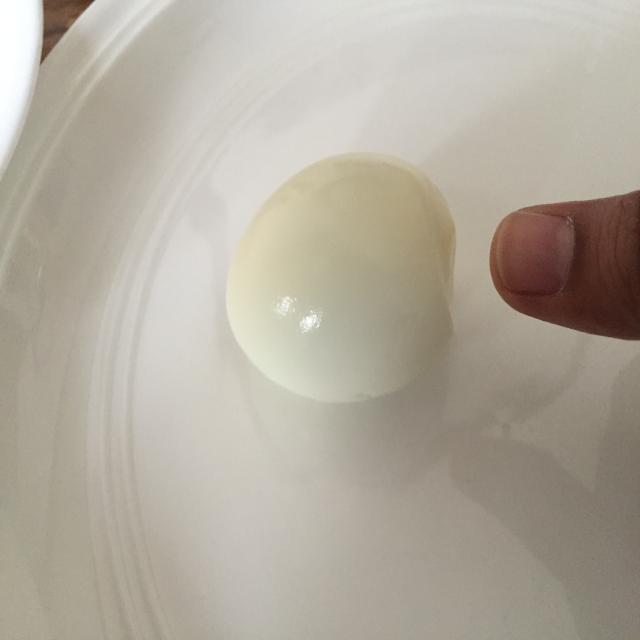Egg: (215, 147, 476, 410)
Finger: (484, 180, 640, 350)
